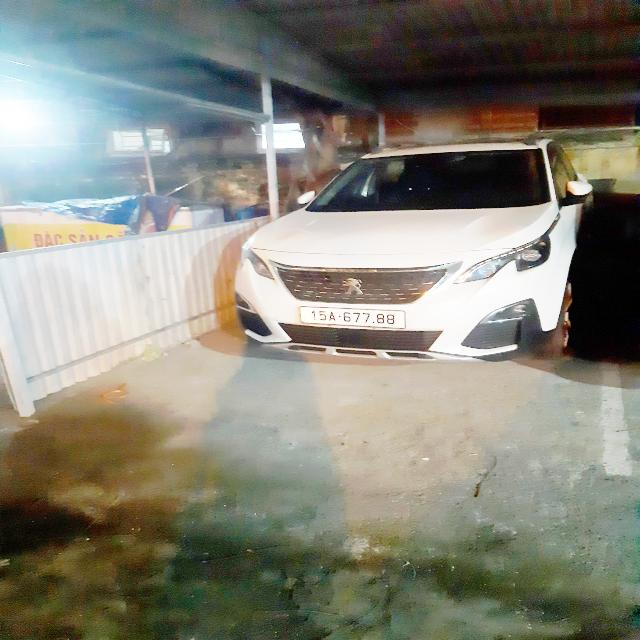license_plate: (297, 306, 412, 333)
